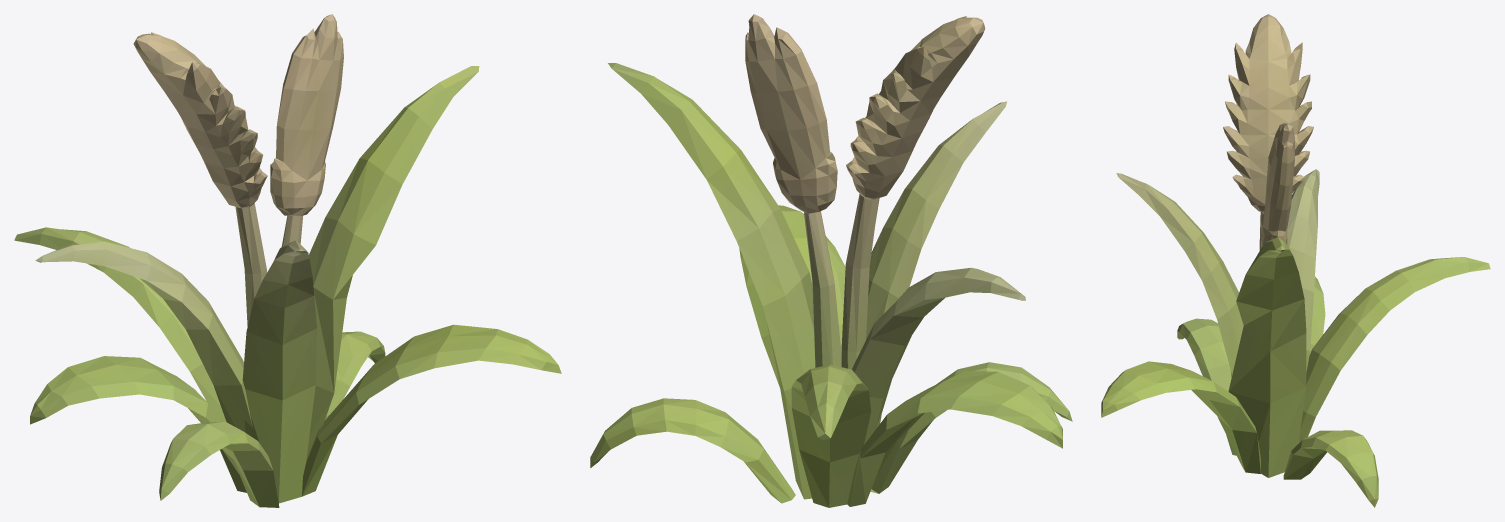
The model's file is grass.glb.
3 renders of one model, left to right at view 1: azimuth 30°, elevation 25°; view 2: azimuth 150°, elevation 25°; view 3: azimuth 270°, elevation 25°, orthographic. The views are drawn at different scales.
Visible parts, largest first — view 1: geometry_0; view 2: geometry_0; view 3: geometry_0.
Boxes of the visible parts, x1=… form: geometry_0: x1=14, y1=14, x2=561, y2=507; geometry_0: x1=590, y1=14, x2=1072, y2=507; geometry_0: x1=1101, y1=14, x2=1490, y2=507.
Size of the model in its own units: 0.1069 by 0.1118 by 0.1001.
